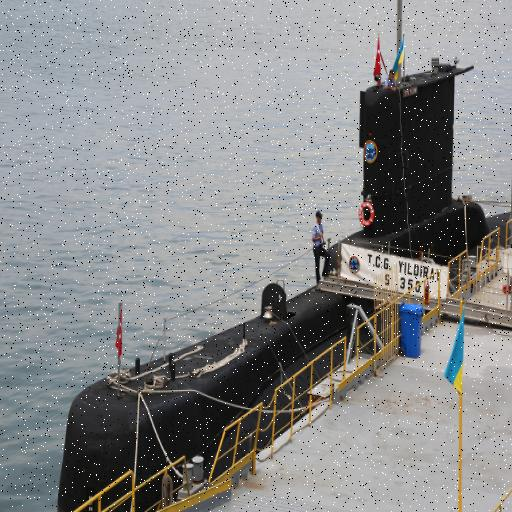submarine: (60, 55, 512, 512)
